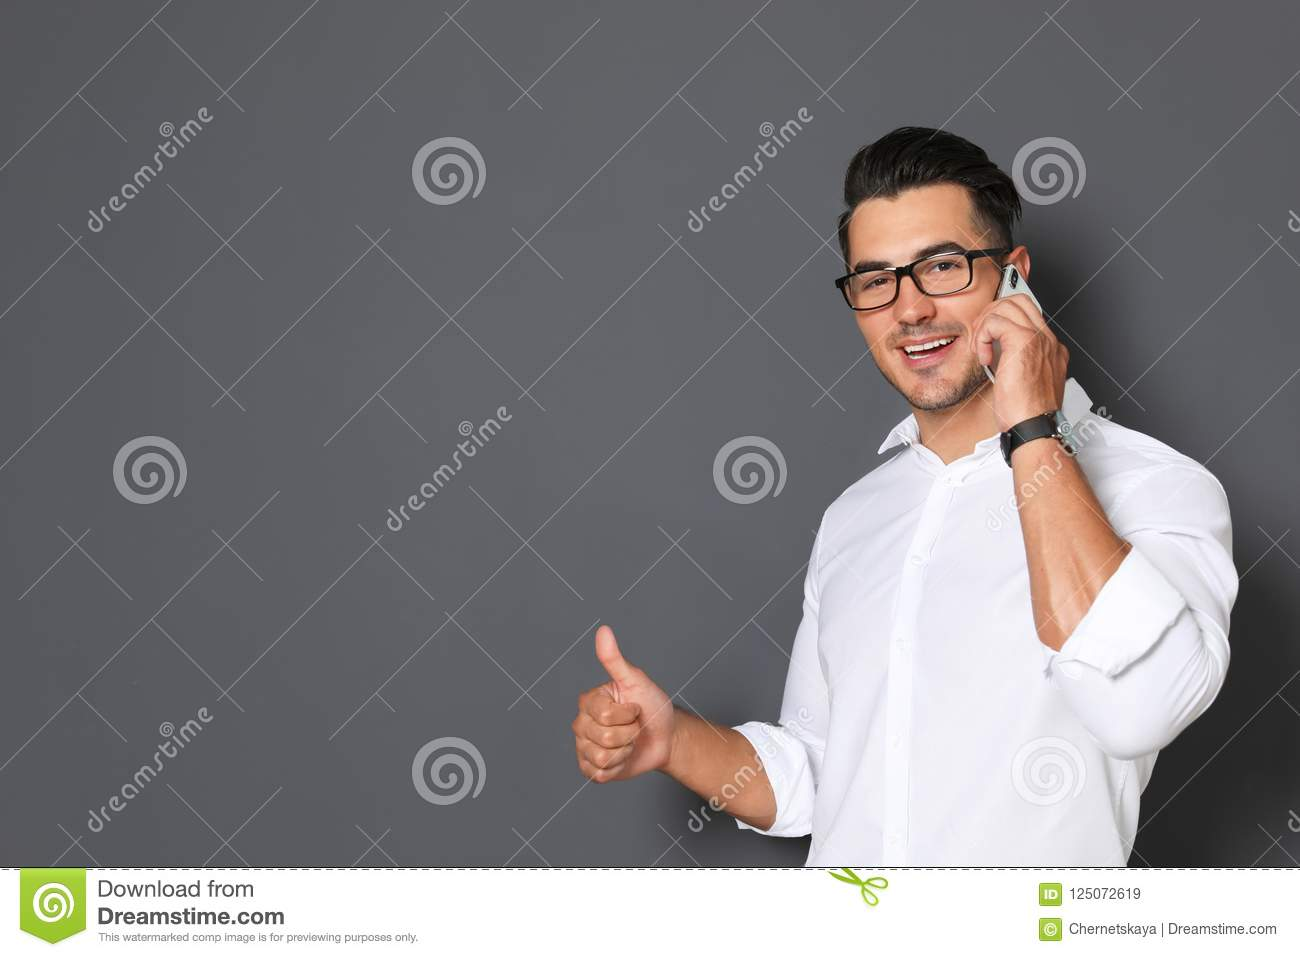phone: (981, 260, 1041, 391)
talk: (842, 230, 1069, 429)
